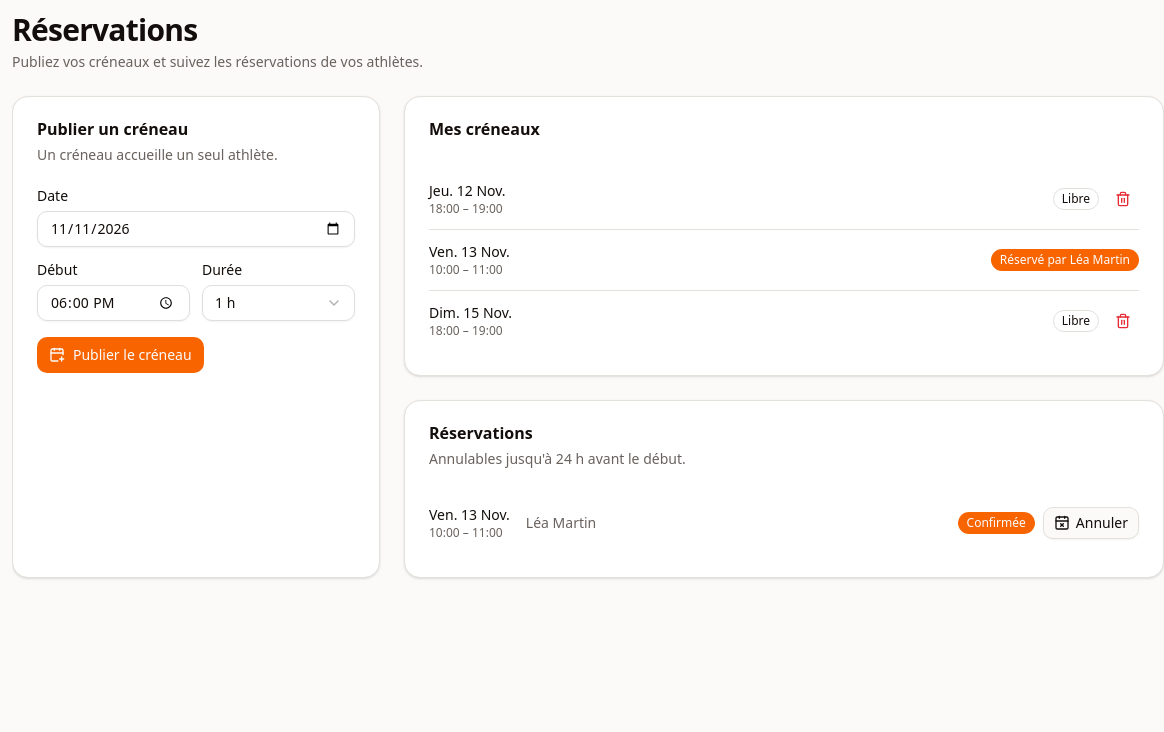
it: BookingPage › coach › affiche le refus du serveur sous le formulaire
The width and height of the screenshot is (1164, 732).
Expected: the text "Réservé par Léa Martin" is shown, [991,249,1139,271]
What coordinates should you click on to do the following:
click the button "Publier le créneau"
I would click on:
 (120, 355)
Its box is [37,337,204,373].
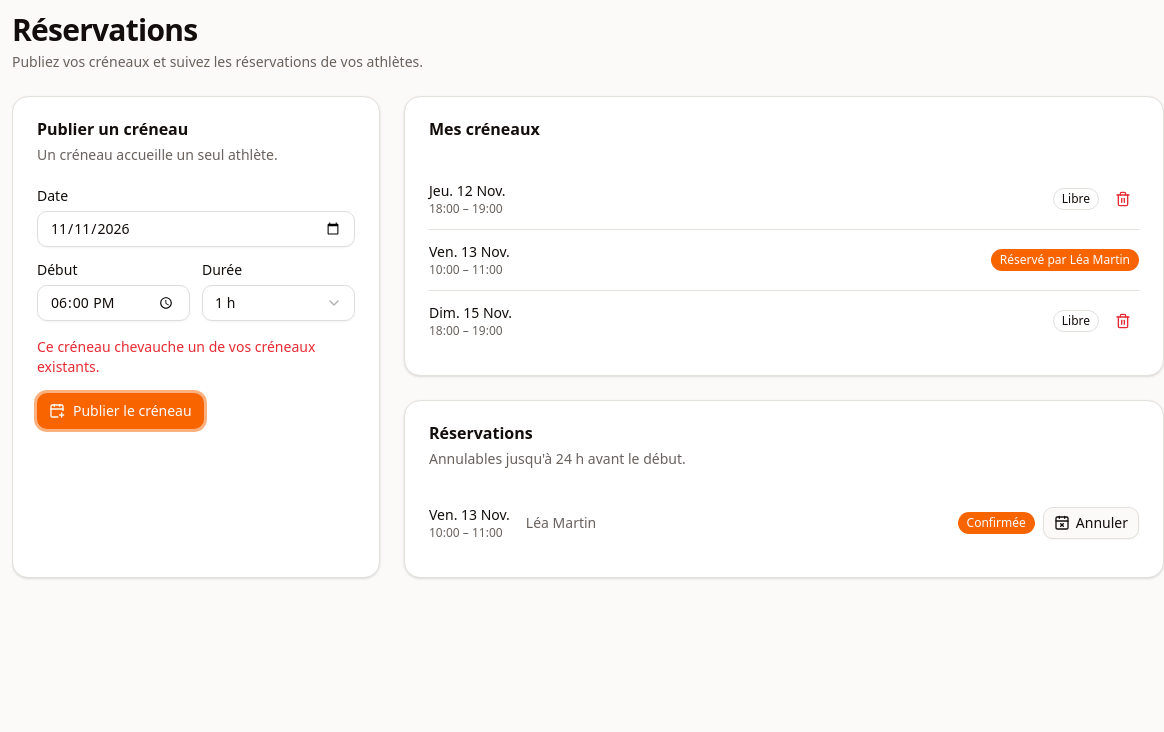
Expected: the text "Ce créneau chevauche un de vos créneaux existants." is shown, [37,337,355,377]
